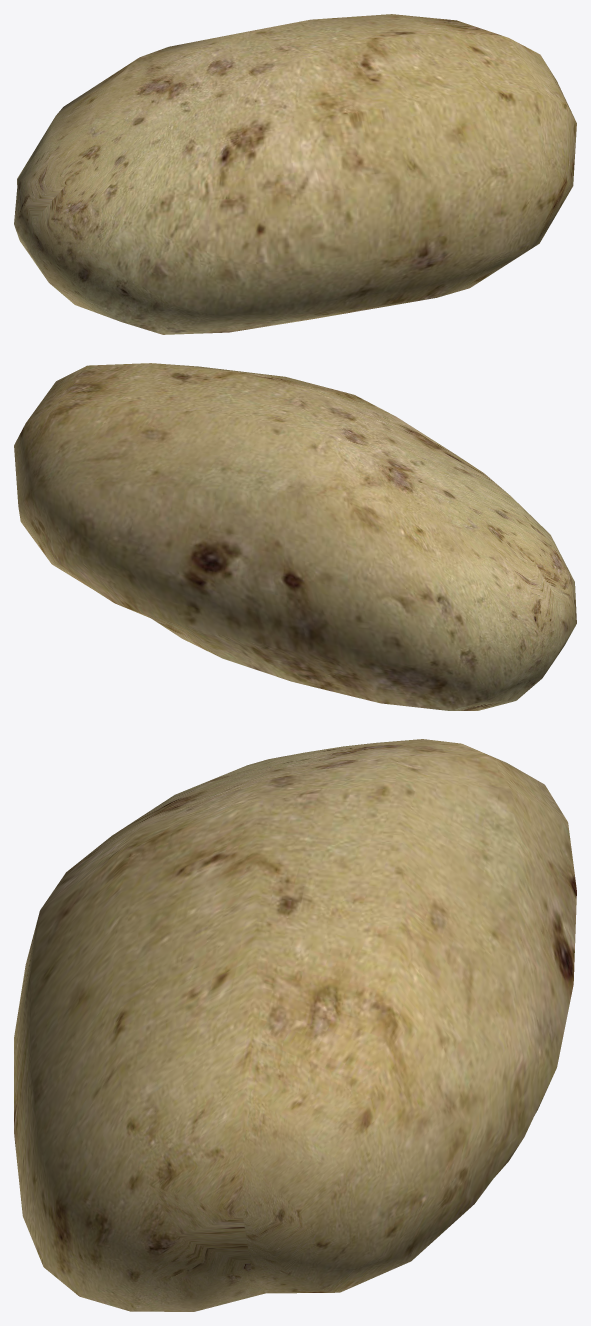
File: Potato.fbx
3 renders of one model, top to bottom at view 1: azimuth 30°, elevation 25°; view 2: azimuth 150°, elevation 25°; view 3: azimuth 270°, elevation 25°, orthographic. The views are drawn at different scales.
Parts seen in each view (by area): view 1: Capsule001; view 2: Capsule001; view 3: Capsule001.
Part boxes in pixels (bbox=[...]): Capsule001: bbox=[14, 14, 576, 334]; Capsule001: bbox=[14, 363, 576, 710]; Capsule001: bbox=[14, 739, 576, 1311].
Size of the model in its own units: 13.07 by 6.12 by 7.26.
1 material, 1 textured.
